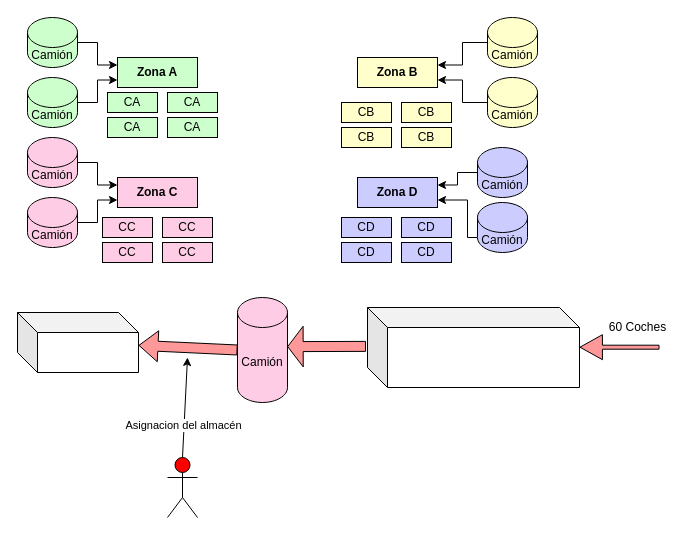
Image size: 695x556. Some labels were removed from this diagram. Here are the shapes that lost their labels. From the top down, the box of each, then its label:
(16, 312, 138, 372): Almacen
(366, 306, 580, 388): Fábrica
(166, 456, 198, 518): Actor
